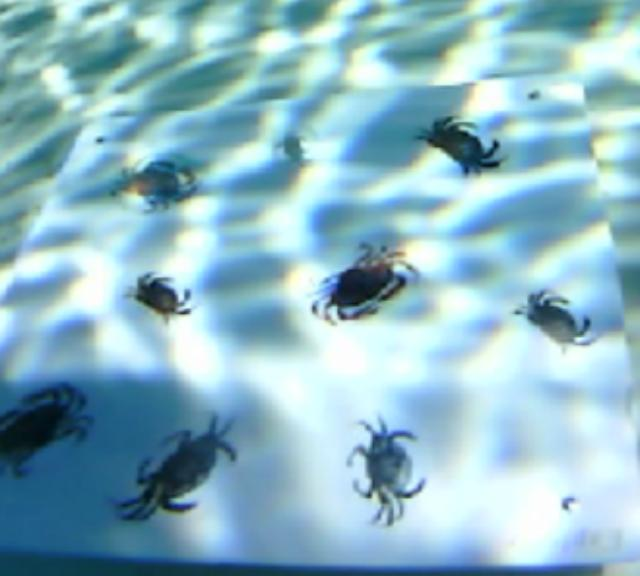crab: (116, 413, 235, 518), (312, 242, 419, 324), (0, 382, 91, 475), (347, 417, 425, 524), (415, 116, 502, 173), (112, 157, 198, 211), (514, 289, 588, 351), (126, 277, 192, 322), (277, 134, 304, 159)
